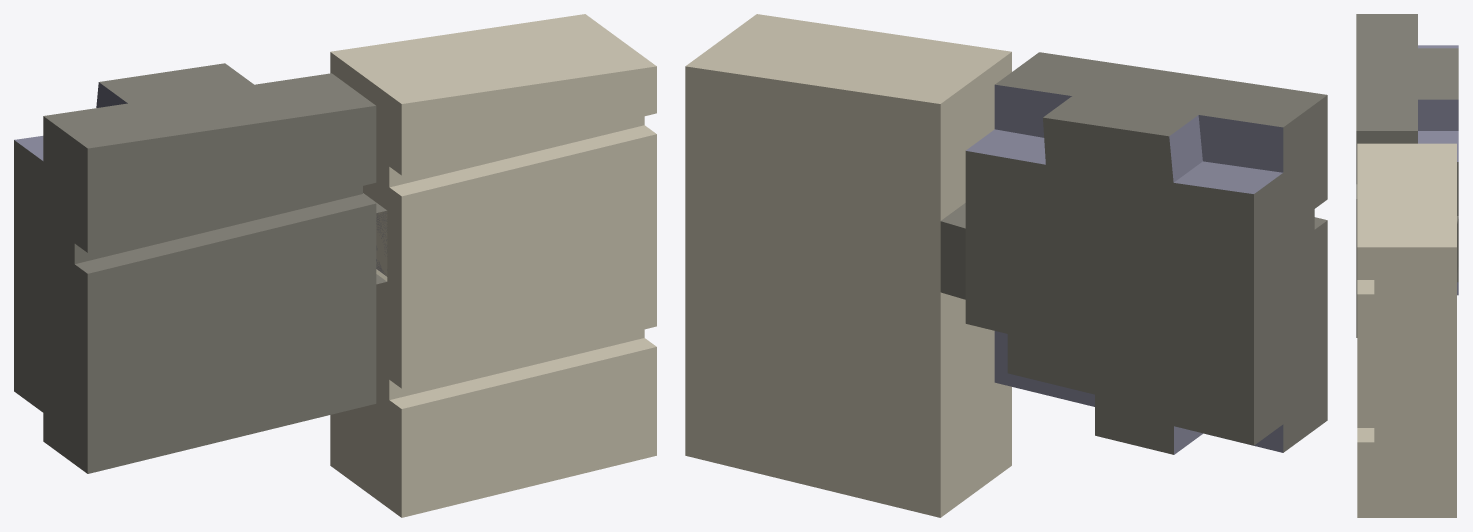
The model's file is CR1_DoorAngle1_simplified.obj.
The picture shows the model from 3 angles, left to right: view 1: azimuth 30°, elevation 25°; view 2: azimuth 150°, elevation 25°; view 3: azimuth 270°, elevation 25°; orthographic projection. The views are drawn at different scales.
Visible parts, largest first — view 1: obj16, obj9, obj1, obj11, obj12, obj43, obj5, obj17, obj46, obj13, obj47, obj4 (+5 smaller); view 2: obj44, obj38, obj12, obj43, obj17, obj46, obj47, obj20, obj26, obj22, obj35, obj45 (+2 smaller); view 3: obj18, obj43, obj17, obj28, obj42, obj27, obj4, obj8, obj22.
Boxes of the visible parts, x1,y1,x2,y2 form: obj16: [87, 203, 376, 473]; obj9: [401, 134, 656, 388]; obj1: [401, 347, 656, 517]; obj11: [87, 106, 376, 252]; obj12: [14, 116, 87, 473]; obj43: [330, 14, 656, 103]; obj5: [401, 66, 656, 175]; obj17: [44, 63, 375, 148]; obj46: [330, 197, 401, 517]; obj13: [75, 194, 375, 273]; obj47: [330, 52, 401, 210]; obj4: [390, 125, 656, 196]; obj44: [685, 66, 940, 517]; obj38: [965, 117, 1253, 454]; obj12: [1254, 95, 1327, 452]; obj43: [686, 14, 1011, 103]; obj17: [995, 52, 1326, 136]; obj46: [940, 292, 1011, 517]; obj47: [940, 52, 1011, 220]; obj20: [1198, 115, 1283, 172]; obj26: [994, 84, 1071, 137]; obj22: [1174, 161, 1282, 193]; obj35: [994, 331, 1094, 406]; obj45: [940, 221, 965, 299]; obj18: [1357, 247, 1456, 517]; obj43: [1357, 143, 1456, 247]; obj17: [1356, 14, 1458, 130]; obj28: [1418, 99, 1458, 130]; obj42: [1356, 131, 1458, 337]; obj27: [1418, 131, 1458, 161]; obj4: [1357, 280, 1374, 294]; obj8: [1357, 428, 1374, 442]; obj22: [1418, 45, 1458, 48].
Size of the model in its own units: 486 by 364 by 109.
